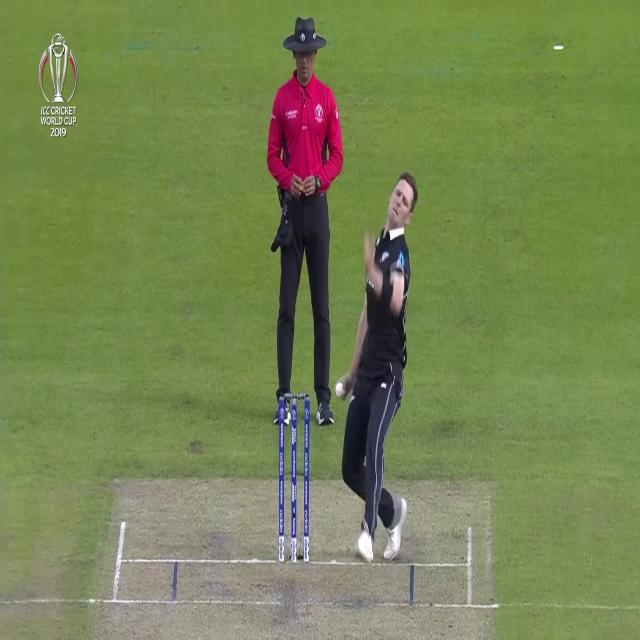ball: (334, 381, 346, 398)
